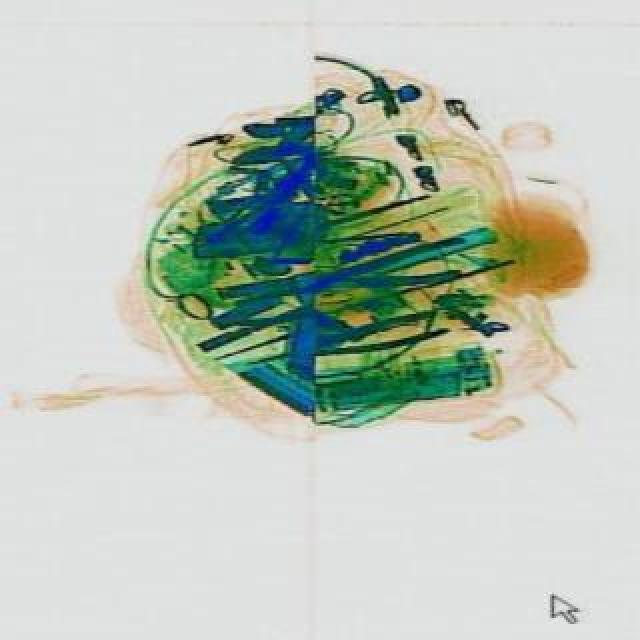wrench: (230, 232, 470, 326), (240, 302, 448, 376)
